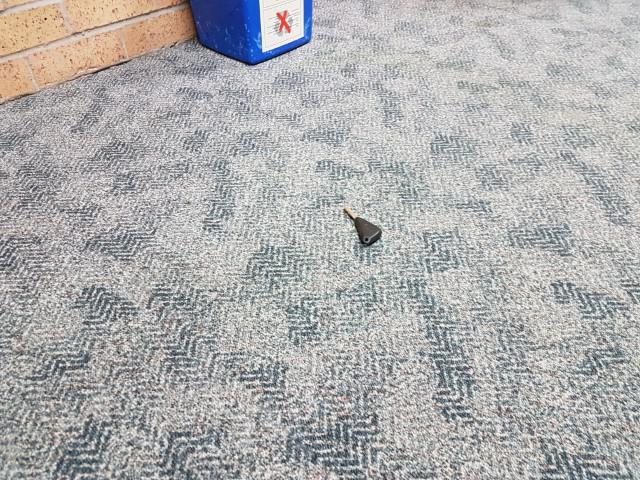key: (344, 205, 383, 245)
